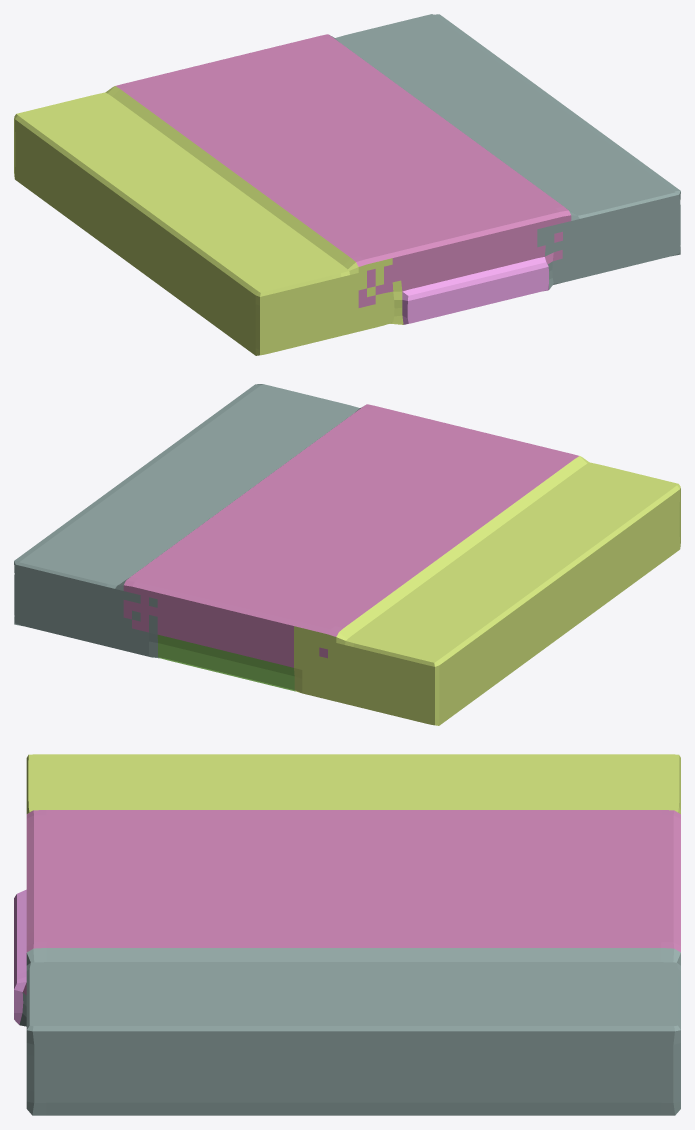
Rendered from nav_mesh_create04.glb.
The picture shows the model from 3 angles, top to bottom: view 1: azimuth 30°, elevation 25°; view 2: azimuth 150°, elevation 25°; view 3: azimuth 270°, elevation 25°; orthographic projection. The views are drawn at different scales.
Visible parts, largest first — view 1: Mesh_0; view 2: Mesh_0; view 3: Mesh_0.
Boxes of the visible parts, x1,y1,x2,y2 form: Mesh_0: (14, 14, 680, 355); Mesh_0: (14, 384, 680, 725); Mesh_0: (14, 754, 680, 1115).
Bounding box in the file's own units: 150 × 24.08 × 153.
